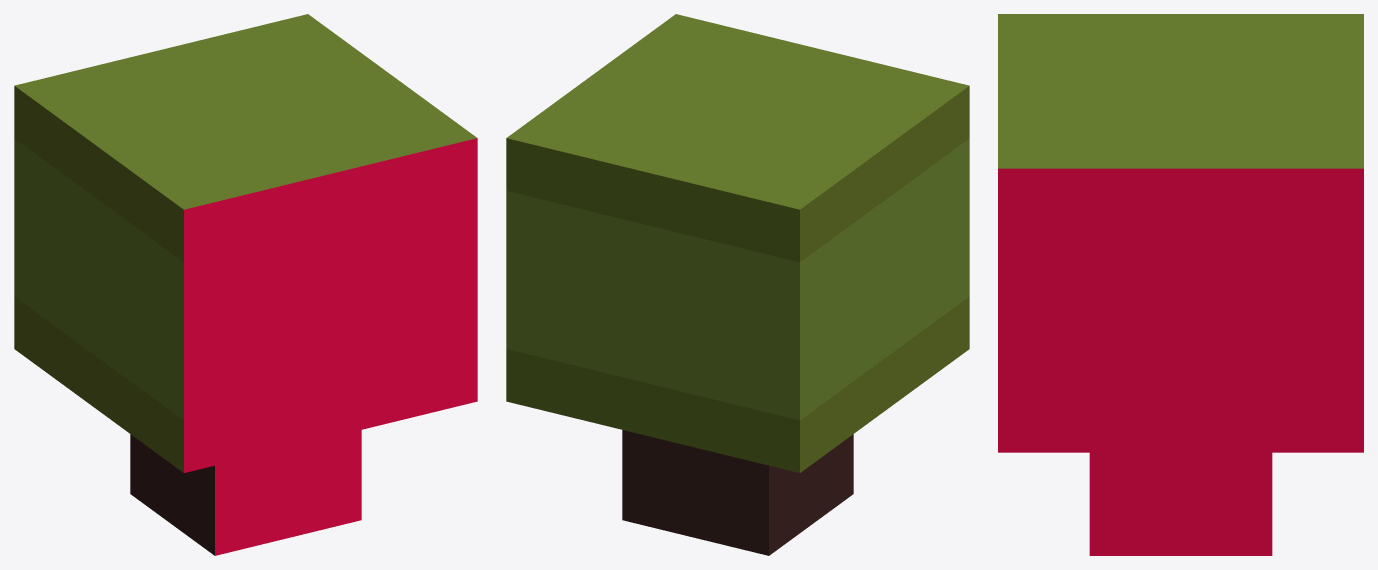
File: tree2.gltf
3 renders of one model, left to right at view 1: azimuth 30°, elevation 25°; view 2: azimuth 150°, elevation 25°; view 3: azimuth 270°, elevation 25°, orthographic. The views are drawn at different scales.
Visible parts, largest first — view 1: mesh; view 2: mesh; view 3: mesh.
Boxes of the visible parts, x1,y1,x2,y2 form: mesh: [14, 14, 477, 555]; mesh: [506, 14, 969, 555]; mesh: [998, 14, 1363, 555].
Bounding box in the file's own units: 0.875 × 1.12 × 0.875.
Materials: 1 (1 with a texture image).
